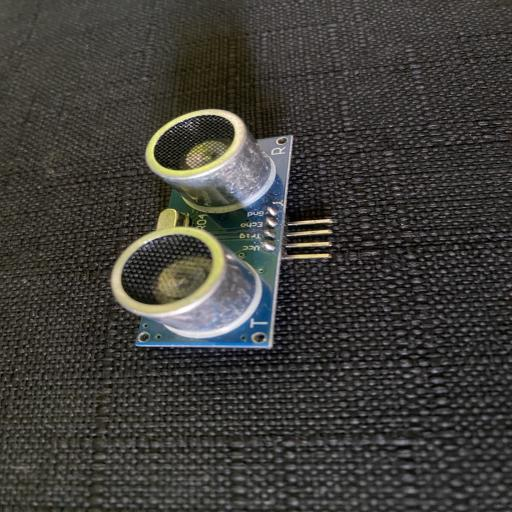Ultrasonic Sensor: (111, 106, 337, 350)
